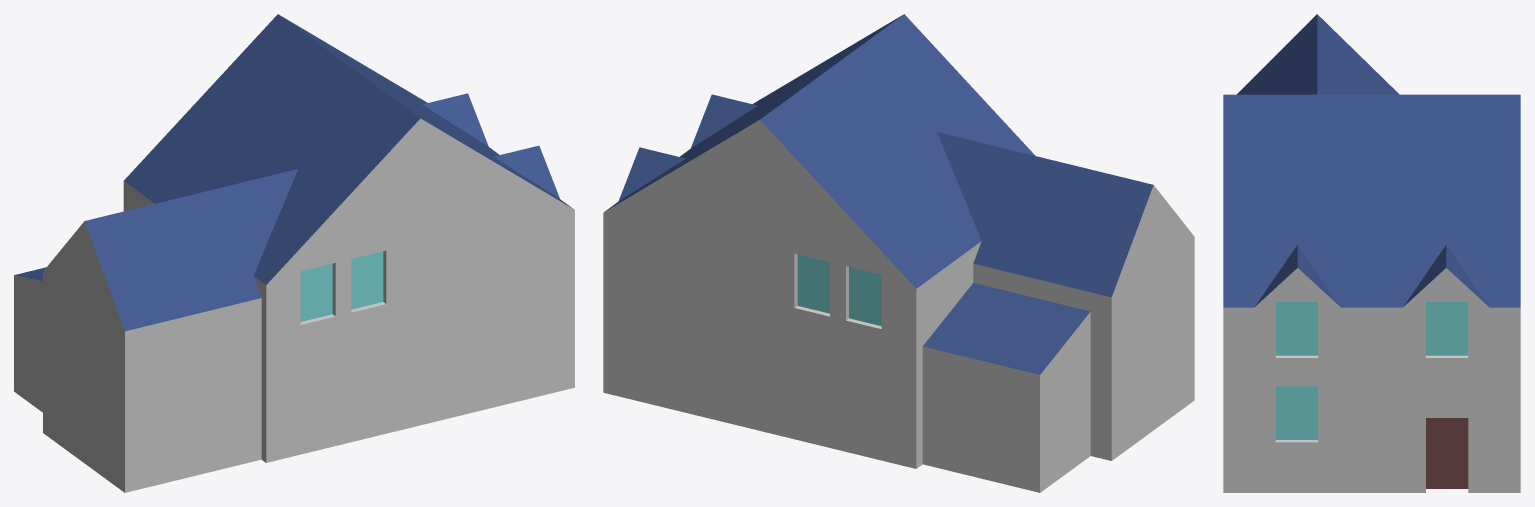
The model's file is maison_mitoyenne1.fbx.
3 views of the same model, side by side, from view 1: azimuth 30°, elevation 25°; view 2: azimuth 150°, elevation 25°; view 3: azimuth 270°, elevation 25° (orthographic). The views are drawn at different scales.
Parts seen in each view (by area): view 1: Cube.001; view 2: Cube.001; view 3: Cube.001.
Boxes of the visible parts, box(x1,y1,x2,y2) form: Cube.001: box(14, 14, 574, 492); Cube.001: box(603, 14, 1194, 492); Cube.001: box(1223, 14, 1520, 492).
Size of the model in its own units: 288 by 190 by 160.
